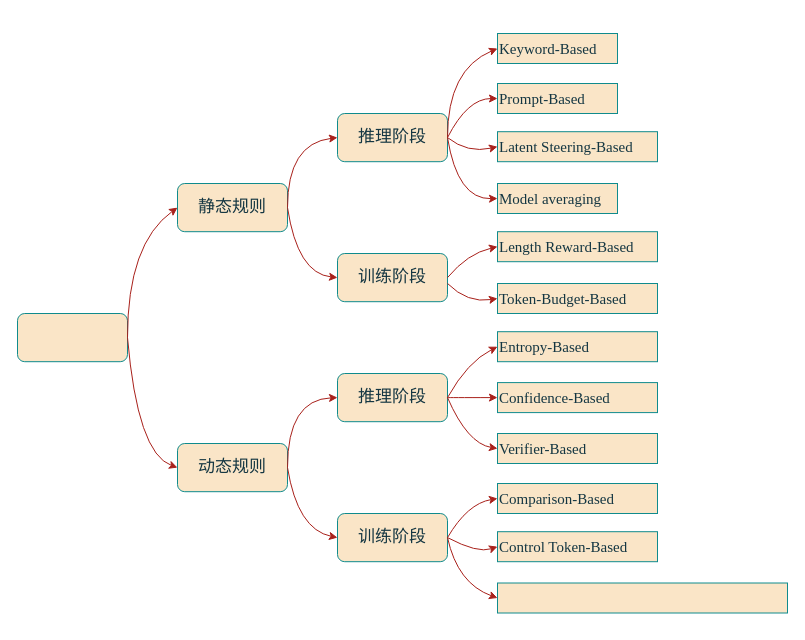
This 805x640 diagram has some shape labels left out. The shapes that lost their labels are listed below. From the top down, each one's box as (x1, y1, x2, y2) in pixels, then its label:
(16, 312, 128, 362): 思维链压缩
(496, 582, 788, 613): Data Mixture and Reward/Loss Enhancement
